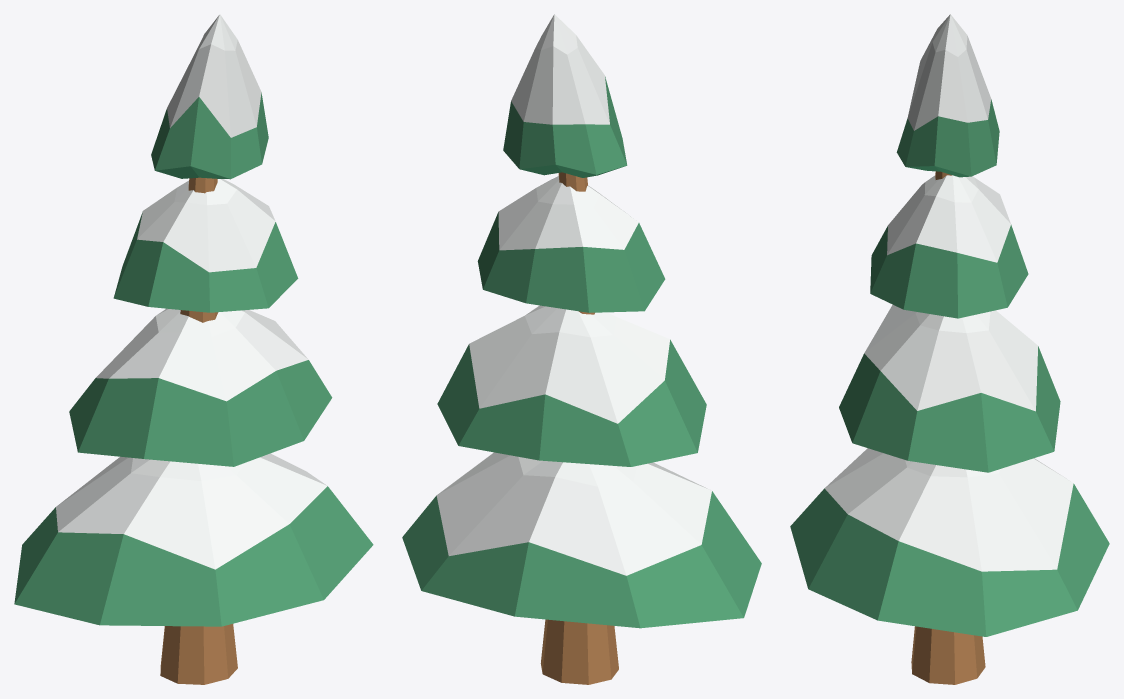
File: AlpineFir.glb
3 renders of one model, left to right at view 1: azimuth 30°, elevation 25°; view 2: azimuth 150°, elevation 25°; view 3: azimuth 270°, elevation 25°, orthographic. The views are drawn at different scales.
Visible parts, largest first — view 1: AlpineFir; view 2: AlpineFir; view 3: AlpineFir.
Boxes of the visible parts, <box> form: AlpineFir: <box>14,14,373,684</box>; AlpineFir: <box>402,14,761,684</box>; AlpineFir: <box>790,14,1109,684</box>.
Bounding box in the file's own units: 2.7 × 5.04 × 2.19.
Materials: 1 (1 with a texture image).
